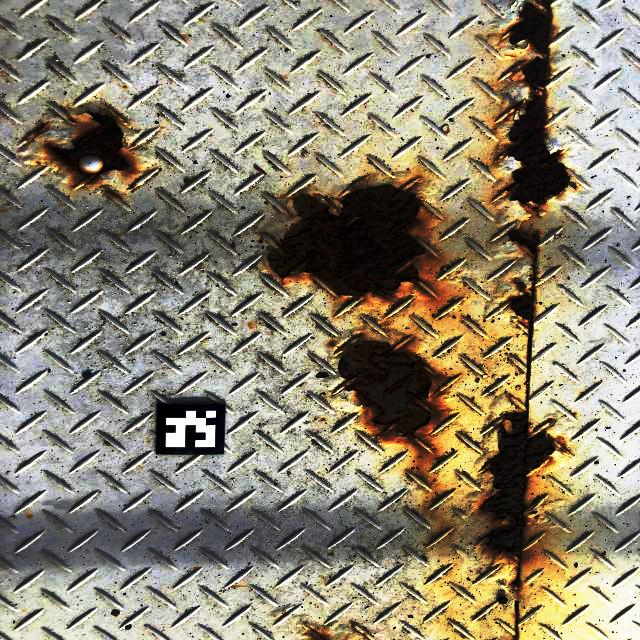Corrosion: (267, 184, 425, 296), (480, 412, 555, 556), (339, 341, 433, 439), (508, 57, 569, 204), (50, 112, 128, 187), (509, 0, 552, 55), (508, 228, 541, 256), (510, 294, 534, 320), (308, 629, 331, 640), (32, 124, 48, 137), (505, 182, 520, 193), (508, 101, 524, 110), (515, 280, 529, 290), (531, 263, 537, 282), (106, 189, 116, 197), (127, 184, 136, 190), (67, 118, 76, 124)
